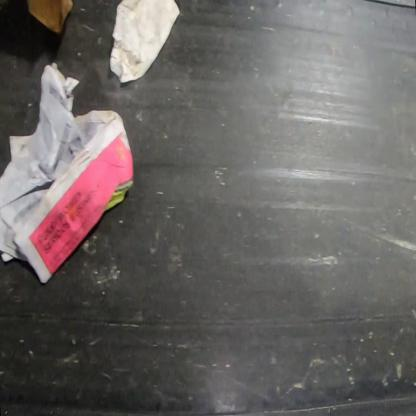cardboard: (28, 0, 73, 35)
